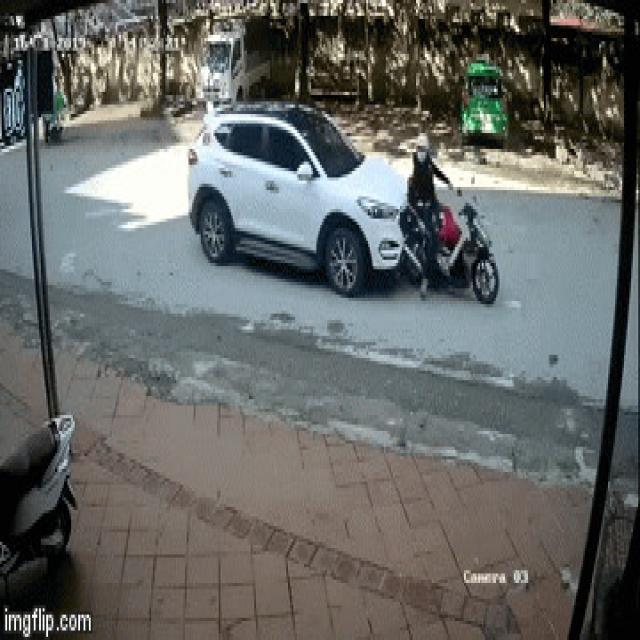multiple_accident: (182, 88, 502, 314)
